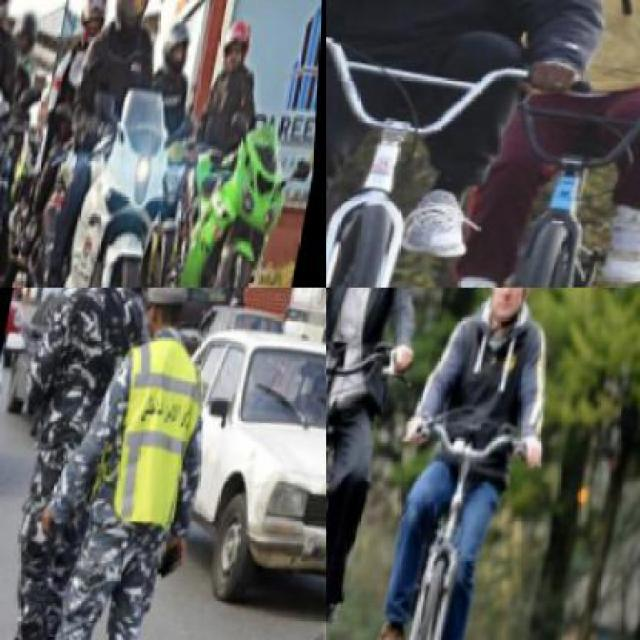With Helmet: (217, 16, 260, 78), (479, 288, 546, 326), (160, 16, 198, 78), (9, 4, 46, 64), (75, 0, 117, 46), (109, 0, 162, 34)
